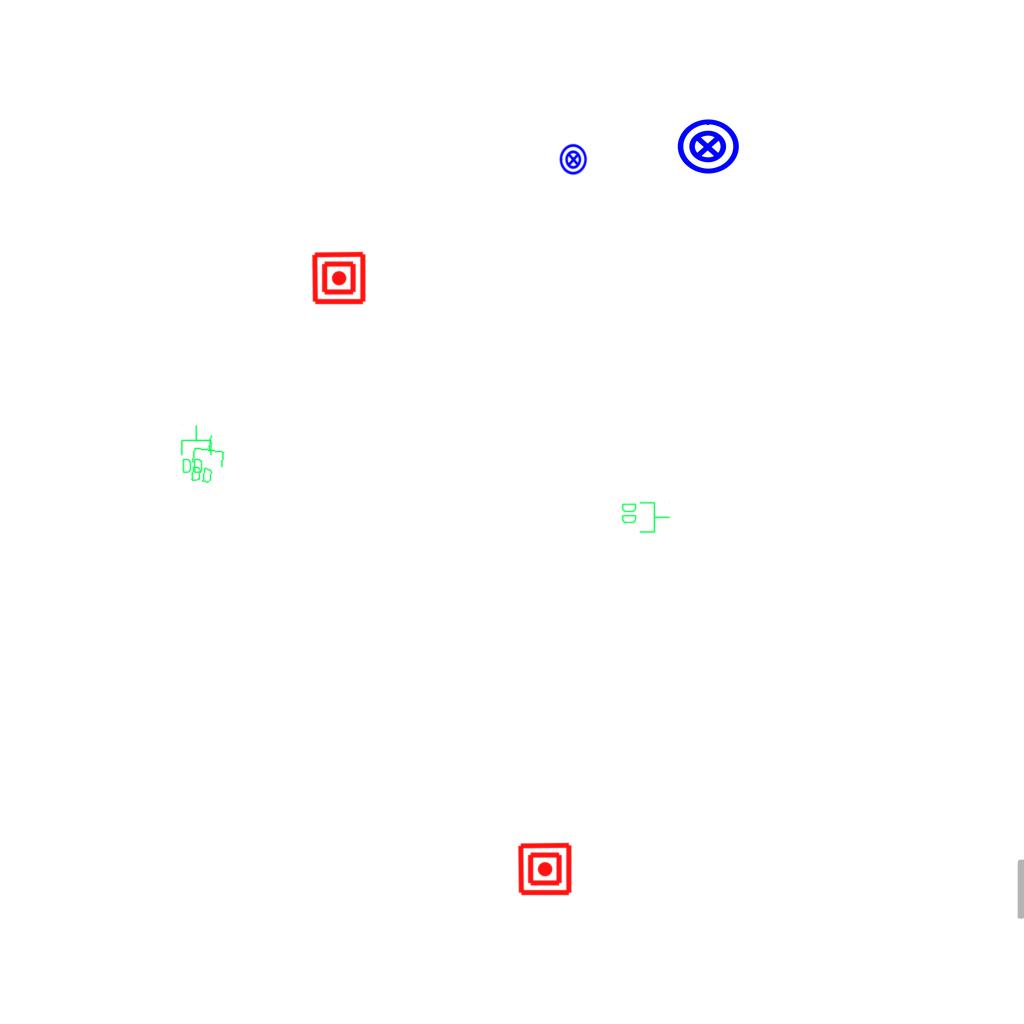Datenanschluss_zweifach: (187, 431, 228, 487), (620, 500, 671, 534), (179, 424, 213, 475)
NAM-Nichtautomatischer_Melder: (517, 841, 573, 897), (311, 250, 367, 306)
Taster_beleuchtet: (675, 114, 741, 180), (557, 143, 590, 176)
